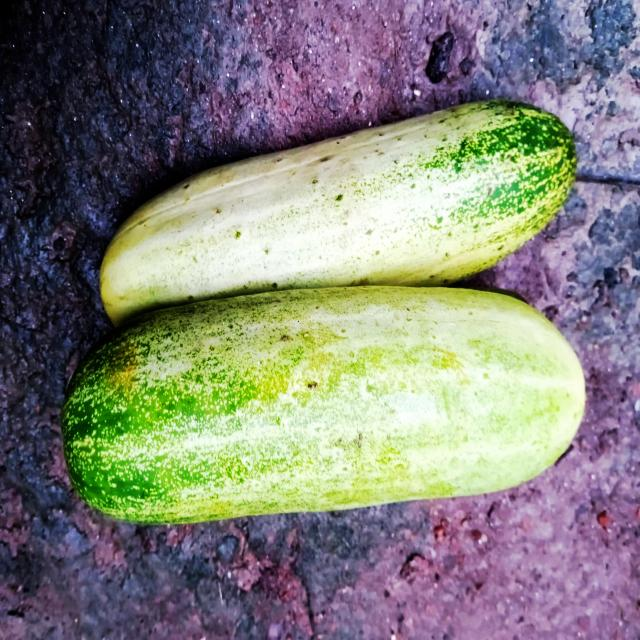Fresh-Cucumber: (59, 284, 588, 525), (96, 92, 579, 334)
